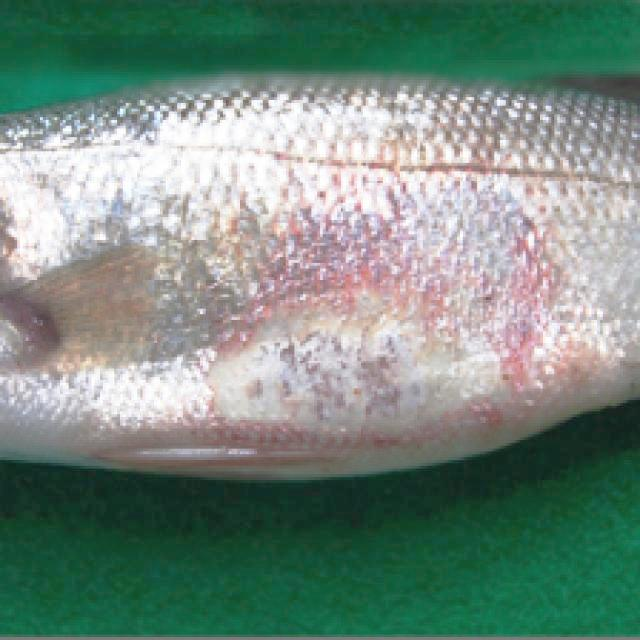Epizootic Ulcerative Syndrome -EUS-: (0, 78, 639, 476), (0, 78, 639, 473)
